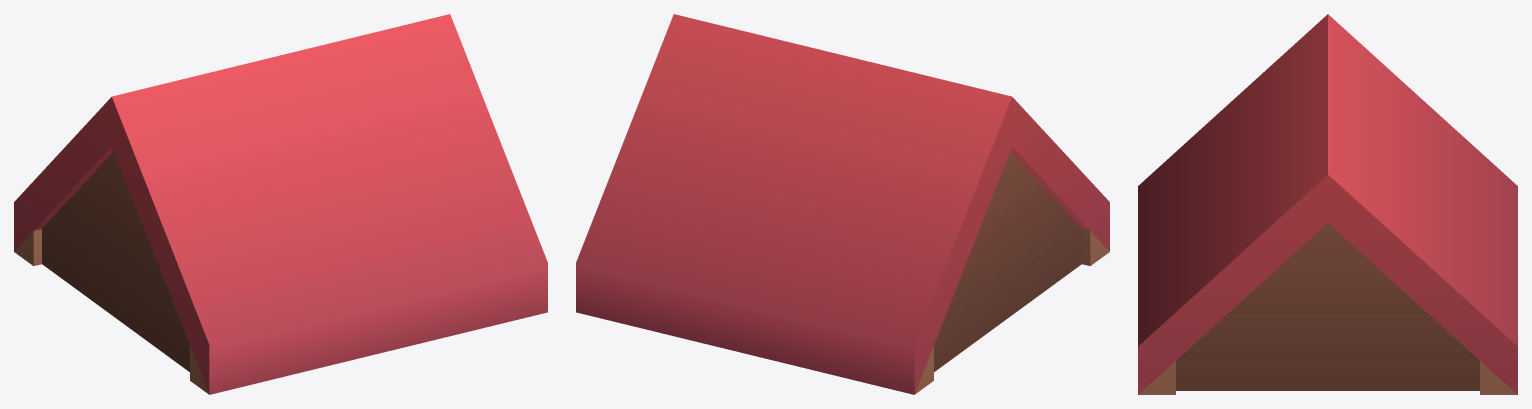
File: roof-high-gable-top.glb
The picture shows the model from 3 angles, left to right: view 1: azimuth 30°, elevation 25°; view 2: azimuth 150°, elevation 25°; view 3: azimuth 270°, elevation 25°; orthographic projection. The views are drawn at different scales.
Visible parts, largest first — view 1: roof-high-gable-top; view 2: roof-high-gable-top; view 3: roof-high-gable-top.
Part boxes in pixels (x1=…): roof-high-gable-top: x1=14, y1=14, x2=547, y2=394; roof-high-gable-top: x1=576, y1=14, x2=1109, y2=394; roof-high-gable-top: x1=1138, y1=14, x2=1517, y2=394.
Bounding box in the file's own units: 1 × 0.6407 × 1.
1 material, 1 textured.
